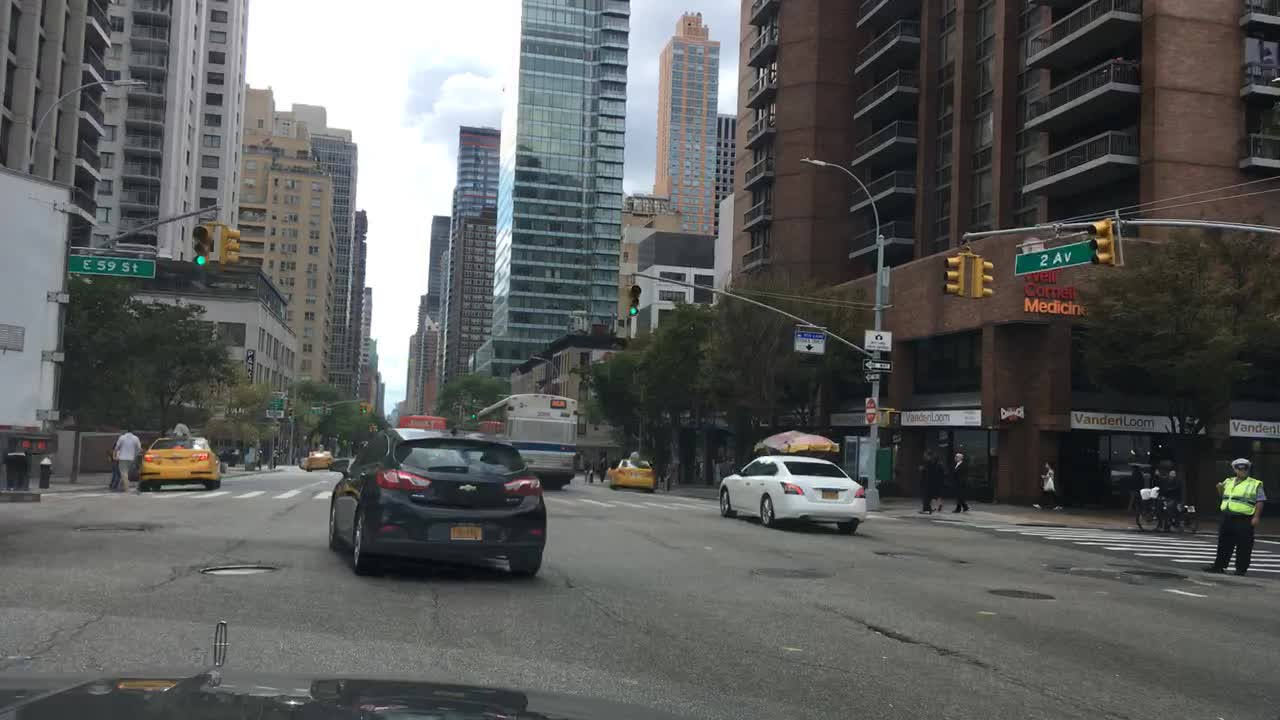bike: (1132, 486, 1193, 531)
bus: (469, 394, 577, 489), (397, 415, 449, 425)
car: (329, 427, 548, 580), (717, 454, 867, 534), (139, 423, 221, 491), (608, 451, 657, 489), (305, 450, 338, 471)
person: (1201, 456, 1266, 576), (112, 425, 141, 490), (1030, 458, 1065, 510), (953, 448, 973, 513), (921, 448, 937, 517), (1127, 459, 1145, 507), (108, 433, 120, 488), (937, 459, 949, 506), (598, 448, 607, 485), (270, 446, 280, 466), (256, 449, 262, 471)
rider: (1160, 470, 1183, 524)
traffic light: (1087, 218, 1116, 268), (970, 254, 994, 302), (218, 224, 240, 269), (191, 221, 211, 267), (942, 252, 962, 293), (629, 284, 642, 318), (879, 409, 900, 428), (359, 400, 371, 416)
traffic sign: (1016, 239, 1092, 272), (67, 255, 156, 280), (792, 326, 825, 353), (266, 391, 287, 418), (864, 330, 892, 350), (867, 357, 896, 372), (861, 369, 888, 381), (865, 397, 875, 426), (310, 408, 329, 416)
truck: (0, 165, 74, 487)
